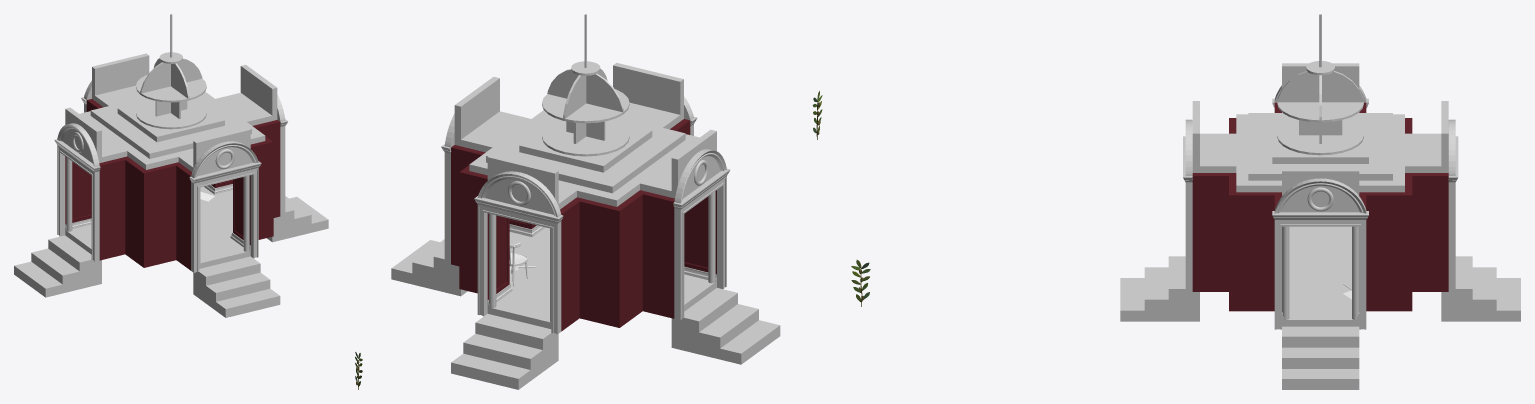
The model's file is monumentojusticavermelho.glb.
The picture shows the model from 3 angles, left to right: view 1: azimuth 30°, elevation 25°; view 2: azimuth 150°, elevation 25°; view 3: azimuth 270°, elevation 25°; orthographic projection. The views are drawn at different scales.
Parts seen in each view (by area): view 1: Base.002, Tecto, Escadas, Base.003, Base, Circle.006, Abobada_01, Colunas Estreitas, Circle.002, Abobada_03, Circle.001, Base.004 (+1 smaller); view 2: Base.002, Tecto, Escadas, Base.003, Base, Circle.006, Abobada_01, Colunas Estreitas, Circle.002, Abobada_03, Circle.001, Base.004 (+3 smaller); view 3: Base.002, Tecto, Escadas, Base, Base.003, Circle.006, Circle.001, Abobada_01, Colunas Estreitas, Abobada_03, Plane.002.
Part boxes in pixels (x1,y1,x2,y2): Base.002: [65, 99, 280, 270]; Tecto: [65, 53, 277, 171]; Escadas: [14, 196, 328, 317]; Base.003: [54, 97, 288, 272]; Base: [65, 186, 250, 268]; Circle.006: [57, 81, 285, 178]; Abobada_01: [136, 100, 206, 129]; Colunas Estreitas: [66, 157, 249, 263]; Circle.002: [140, 58, 202, 93]; Abobada_03: [136, 74, 206, 102]; Circle.001: [154, 58, 189, 98]; Base.004: [65, 184, 250, 251]; Base.002: [451, 119, 716, 331]; Tecto: [454, 62, 716, 209]; Escadas: [391, 239, 780, 389]; Base.003: [441, 117, 730, 334]; Base: [487, 227, 716, 328]; Circle.006: [444, 96, 726, 217]; Abobada_01: [542, 120, 629, 156]; Colunas Estreitas: [489, 191, 715, 322]; Circle.002: [547, 69, 624, 112]; Abobada_03: [542, 89, 629, 123]; Circle.001: [563, 69, 607, 118]; Base.004: [487, 224, 716, 307]; Base.002: [1192, 102, 1448, 311]; Tecto: [1192, 63, 1448, 195]; Escadas: [1120, 256, 1520, 389]; Base: [1282, 226, 1359, 326]; Base.003: [1183, 98, 1458, 329]; Circle.006: [1185, 85, 1455, 213]; Circle.001: [1277, 71, 1363, 102]; Abobada_01: [1277, 119, 1363, 155]; Colunas Estreitas: [1282, 226, 1359, 319]; Abobada_03: [1277, 102, 1363, 122]; Plane.002: [1299, 120, 1342, 135].
Bounding box in the file's own units: 8.3 × 6.68 × 13.88.
